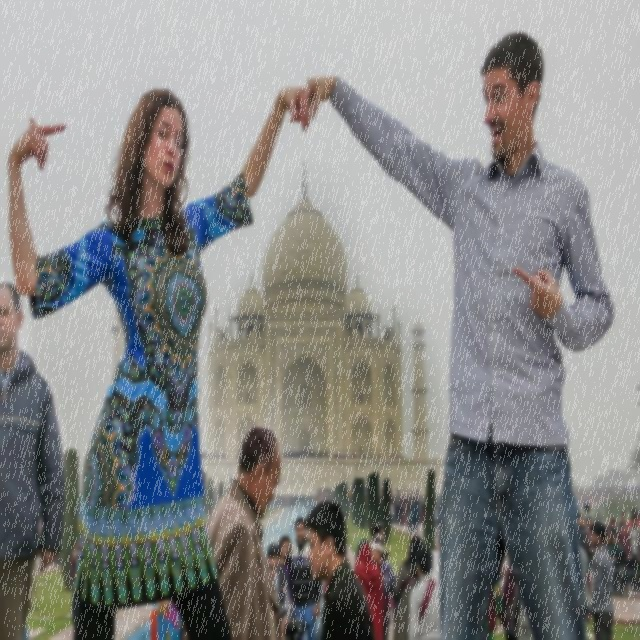pessoa: (299, 26, 617, 638), (0, 80, 312, 639), (0, 279, 69, 639), (205, 424, 287, 638), (303, 498, 377, 639), (285, 514, 323, 639), (480, 550, 530, 638), (585, 520, 617, 638), (353, 537, 387, 639), (406, 544, 442, 638), (392, 534, 424, 638), (370, 534, 398, 638), (385, 496, 442, 536), (134, 596, 186, 639), (574, 524, 592, 638), (266, 540, 290, 614), (576, 483, 640, 508), (280, 448, 404, 460), (276, 533, 294, 612), (617, 520, 634, 598), (606, 533, 625, 596), (626, 513, 639, 599), (369, 520, 391, 562), (264, 493, 316, 509), (70, 541, 81, 591), (198, 448, 242, 458), (605, 517, 620, 536), (576, 513, 586, 541), (626, 508, 639, 528), (604, 530, 613, 558), (584, 516, 594, 538), (582, 502, 592, 521), (604, 514, 614, 532), (617, 512, 627, 530), (581, 518, 590, 538), (316, 486, 334, 496), (18, 625, 29, 639), (634, 513, 640, 528), (348, 486, 352, 508), (322, 578, 328, 592), (615, 520, 621, 534), (626, 518, 632, 532), (615, 518, 620, 534)
